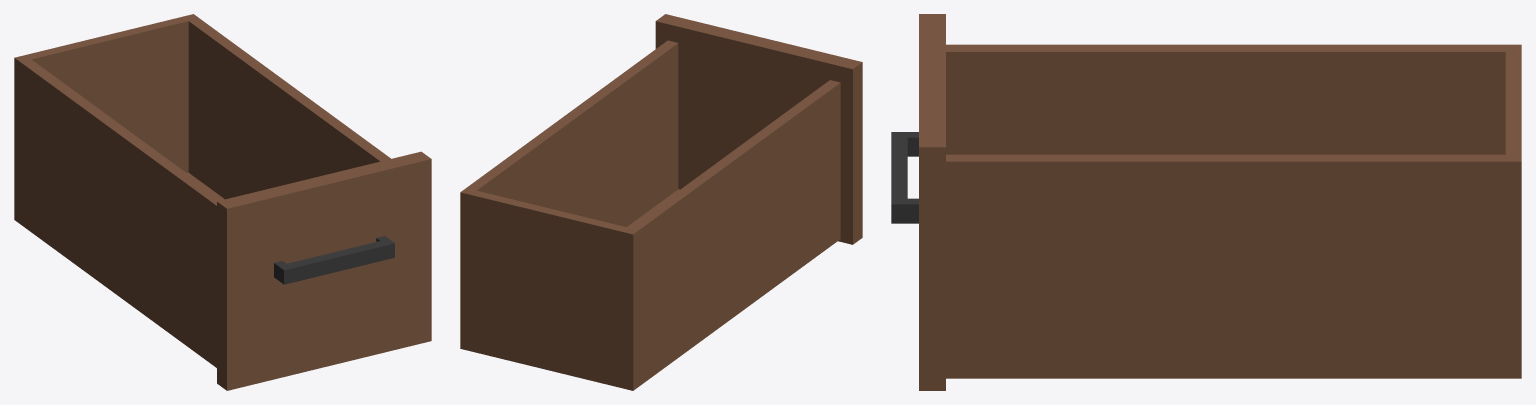
The model's file is Door2_C2_07.fbx.
The picture shows the model from 3 angles, left to right: view 1: azimuth 30°, elevation 25°; view 2: azimuth 150°, elevation 25°; view 3: azimuth 270°, elevation 25°; orthographic projection. The views are drawn at different scales.
Parts seen in each view (by area): view 1: Door2_C2_07; view 2: Door2_C2_07; view 3: Door2_C2_07.
Boxes of the visible parts, x1,y1,x2,y2 form: Door2_C2_07: [14, 14, 431, 390]; Door2_C2_07: [460, 14, 862, 390]; Door2_C2_07: [891, 14, 1521, 390].
Bounding box in the file's own units: 29 × 24.68 × 57.89.
